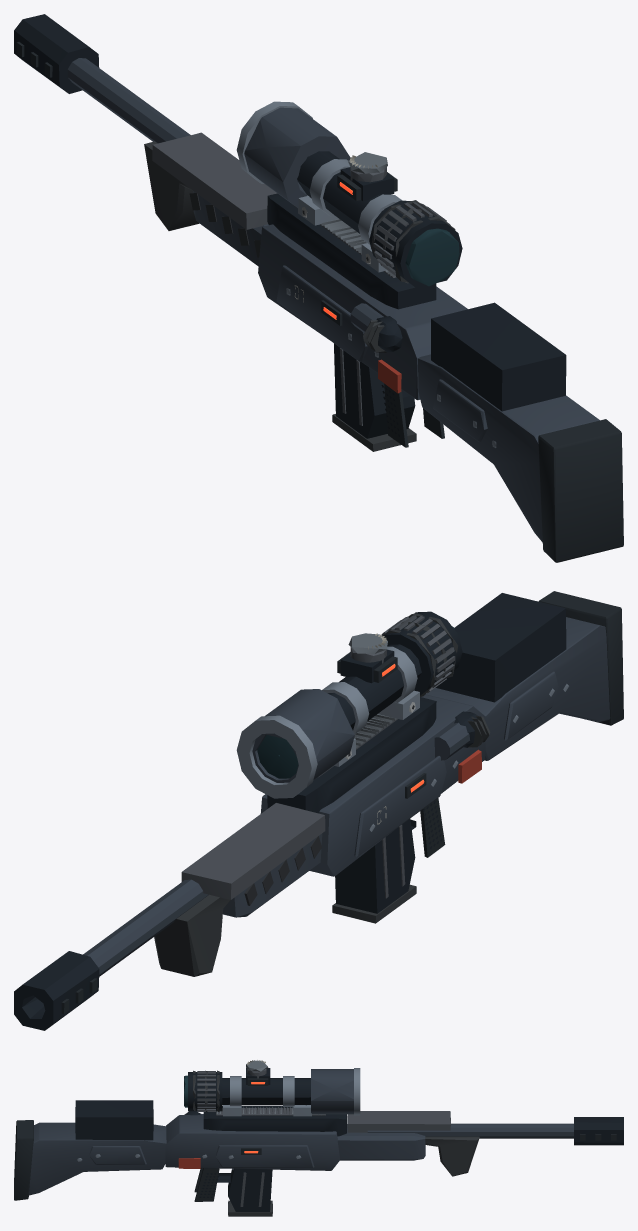
File: sniper.glb
3 views of the same model, one above another, from view 1: azimuth 30°, elevation 25°; view 2: azimuth 150°, elevation 25°; view 3: azimuth 270°, elevation 25° (orthographic). The views are drawn at different scales.
Visible parts, largest first — view 1: body, mag, bolt; view 2: body, mag, bolt; view 3: body, mag.
Part boxes in pixels (x1,y1,x2,y2): body: (14,14,623,562); mag: (332,343,416,451); bolt: (350,303,402,352); body: (14,591,623,1030); mag: (332,818,416,923); bolt: (434,711,490,760); body: (14,1060,623,1201); mag: (228,1168,272,1216).
Bounding box in the file's own units: 0.2274 × 0.5594 × 2.11.
